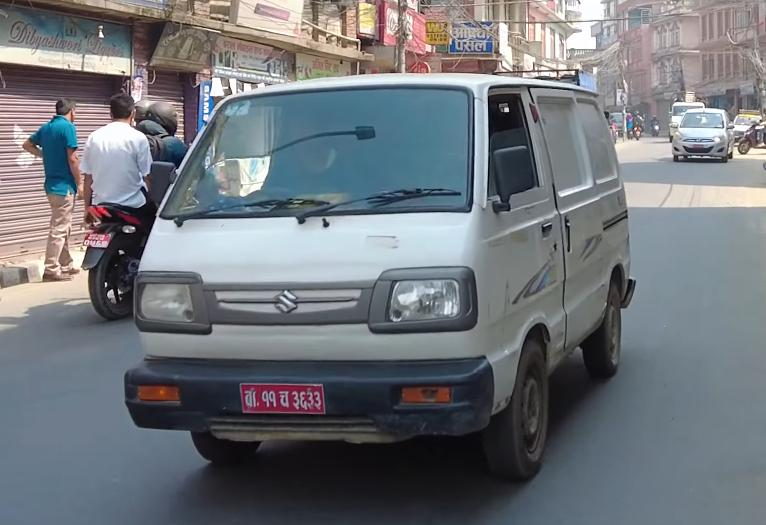car: (669, 105, 736, 168)
van: (118, 51, 656, 490)
